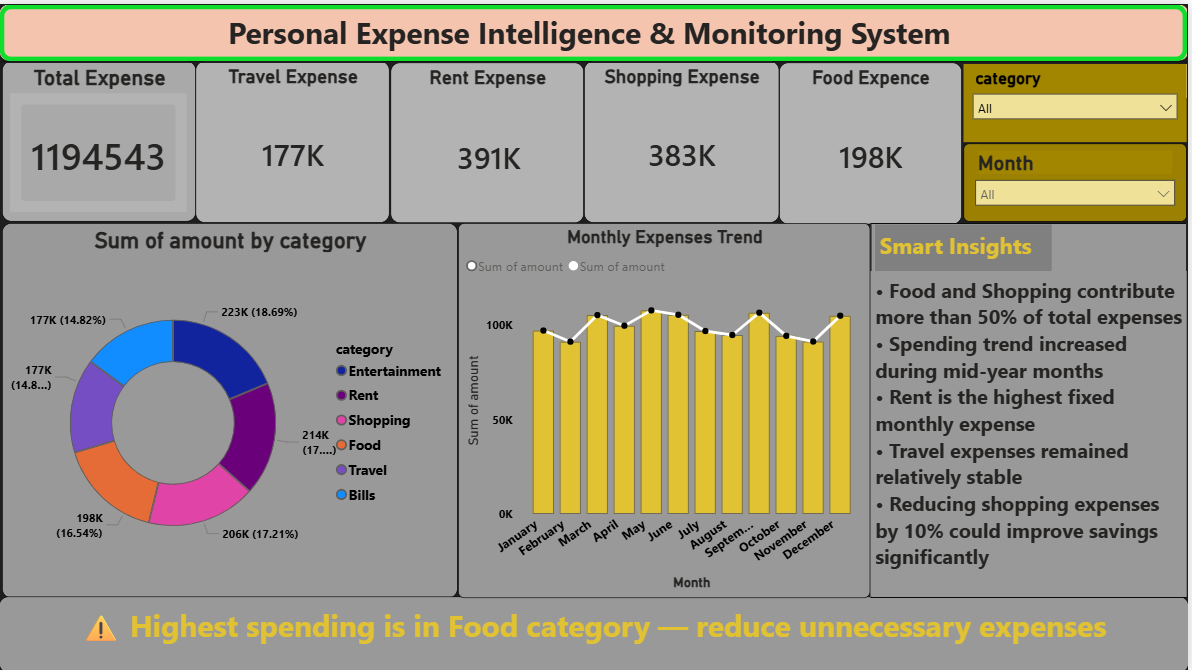

The dashboard page shown, as its layout file describes it:
{"tool":"powerbi","page":{"name":"Page 1","canvas":[1280,720],"ordinal":0},"visuals":[{"type":"cardVisual","title":"Total Expense","fields":{"Data":["Sum(expense_data_2025.amount)"]},"box":[3,62.1,209,172.6],"z":0},{"type":"textbox","box":[0,0,1279,61.3],"z":1000},{"type":"cardVisual","title":"Food Expence","fields":{"Data":["Sum(expense_data_2025.amount)"]},"box":[839.1,62.4,196.5,173.9],"z":2000},{"type":"cardVisual","title":"Travel Expense","fields":{"Data":["Sum(expense_data_2025.amount)"]},"box":[212,60.6,209,174.1],"z":3000},{"type":"cardVisual","title":"Rent Expense","fields":{"Data":["Sum(expense_data_2025.amount)"]},"box":[421,62.9,208.1,172.6],"z":4000},{"type":"cardVisual","title":"Shopping Expense","fields":{"Data":["Sum(expense_data_2025.amount)"]},"box":[629,61.3,209.7,174.2],"z":5000},{"type":"donutChart","fields":{"Category":["expense_data_2025.category"],"Y":["Sum(expense_data_2025.amount)"]},"box":[3.2,235.5,490.3,403.2],"z":6000},{"type":"shape","box":[0,0,1279,62.9],"z":7000},{"type":"textbox","box":[0,637.1,1279,82.3],"z":8000},{"type":"lineClusteredColumnComboChart","title":"Monthly Expenses Trend","fields":{"Category":["expense_data_2025.date.Variation.Date Hierarchy.Month"],"Y":["Sum(expense_data_2025.amount)"],"Y2":["Sum(expense_data_2025.amount)"]},"box":[493.5,235.5,443.5,403.2],"z":9000},{"type":"slicer","fields":{"Values":["expense_data_2025.category"]},"box":[1037.1,64.5,240.3,83.9],"z":10000},{"type":"slicer","fields":{"Values":["expense_data_2025.date.Variation.Date Hierarchy.Month"]},"box":[1037.1,150,240.3,83.9],"z":11000},{"type":"shape","box":[937.1,235.5,340.3,403.2],"z":12000},{"type":"textbox","box":[941.9,237.1,190.3,50],"z":13000},{"type":"textbox","box":[937.1,287.1,340.3,350],"z":13001}]}

Visuals, with their boxes in screenshot pixels (x1, y1, x2, y2), scaled from the page's 1280x720 canvas onto the 1192x670 screenshot:
"Total Expense" cardVisual: left=3, top=58, right=197, bottom=218
textbox: left=0, top=0, right=1191, bottom=57
"Food Expence" cardVisual: left=781, top=58, right=964, bottom=220
"Travel Expense" cardVisual: left=197, top=56, right=392, bottom=218
"Rent Expense" cardVisual: left=392, top=59, right=586, bottom=219
"Shopping Expense" cardVisual: left=586, top=57, right=781, bottom=219
donutChart - expense_data_2025.category x Sum(expense_data_2025.amount): left=3, top=219, right=460, bottom=594
shape: left=0, top=0, right=1191, bottom=59
textbox: left=0, top=593, right=1191, bottom=669
"Monthly Expenses Trend" lineClusteredColumnComboChart: left=460, top=219, right=873, bottom=594
slicer - expense_data_2025.category: left=966, top=60, right=1190, bottom=138
slicer - expense_data_2025.date.Variation.Date Hierarchy.Month: left=966, top=140, right=1190, bottom=218
shape: left=873, top=219, right=1190, bottom=594
textbox: left=877, top=221, right=1054, bottom=267
textbox: left=873, top=267, right=1190, bottom=593
